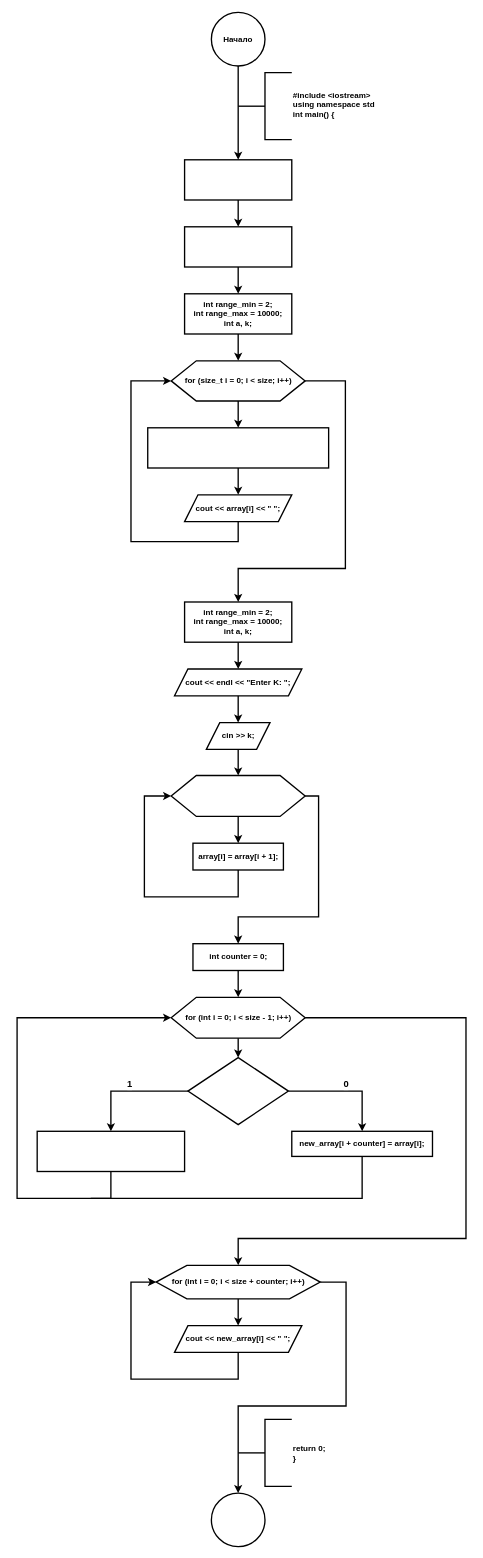
The diagram is 483 pixels wide and 1558 high, and some of its shapes have lost their labels. Each missing label, with the centre of its shape:
array[i] = ((double)rand() / RAND_MAX) * (range_max - range_min) + range_min;: (238,447)
counter++; new_array[i + counter - 1] = array[i]; new_array[i + counter] = 0;: (110,1151)
for (int i = k; i < size; i++): (238,796)
if (array[i] % 2 == 0): (238,1091)
int array[size]; int new_array[new_size];: (238,246)
int const size = 10; int const new_size = 100;: (238,179)
Конец: (237,1519)
